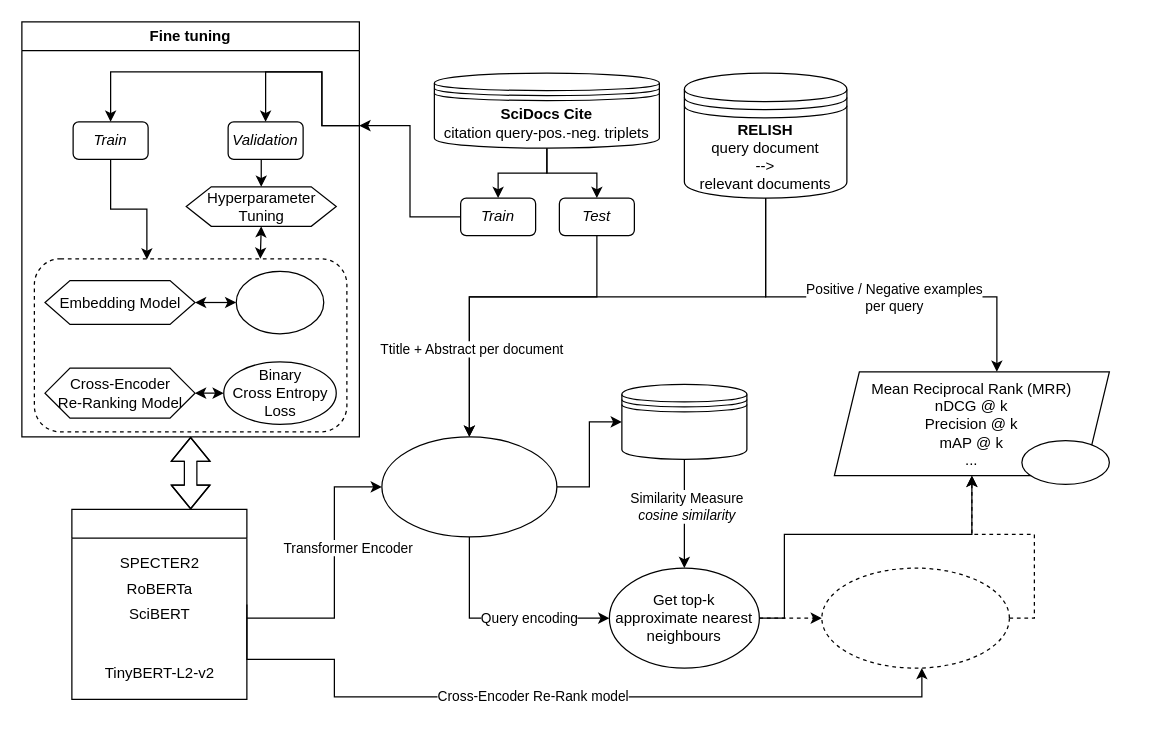
This 1169x729 diagram has some shape labels left out. Each missing label, with the box of its shape:
(Pre)-Trained Models: (71, 508, 247, 699)
Encode all documents into vector embeddings: (381, 436, 557, 537)
Evaluation: (1021, 439, 1109, 484)
Re-Rank using cross-encoder model <optional>: (821, 567, 1009, 668)
Triplet Loss: (235, 270, 324, 334)
Vector Database FAISS: (621, 383, 747, 459)
